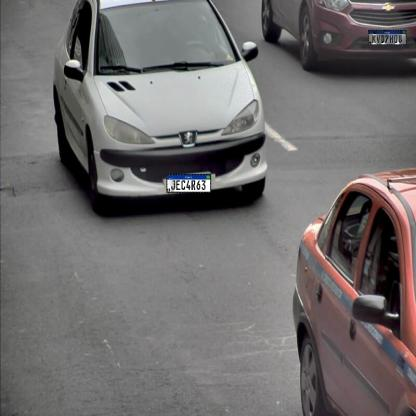PlacaM: (167, 174, 211, 193), (368, 30, 407, 45)
